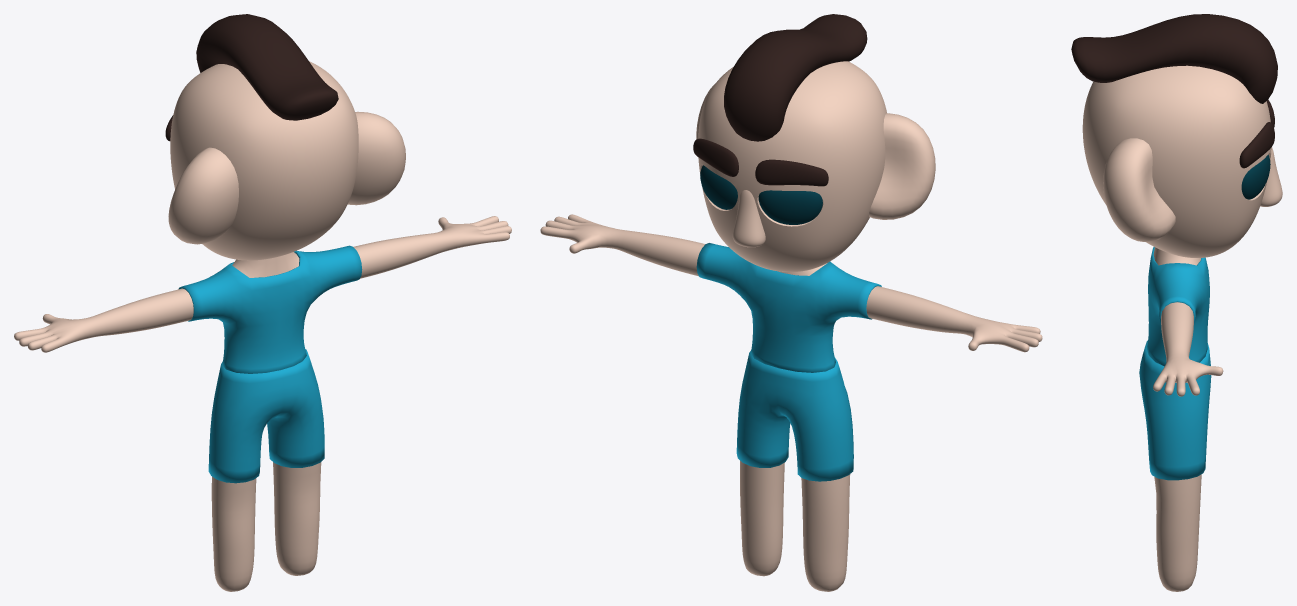
The model's file is BodyMaleAthlete2.fbx.
3 views of the same model, side by side, from view 1: azimuth 30°, elevation 25°; view 2: azimuth 150°, elevation 25°; view 3: azimuth 270°, elevation 25° (orthographic).
Visible parts, largest first — view 1: Head.006, Body.007, Shirt.003, shorts.001, HairExtra.001; view 2: Head.006, Body.007, Shirt.003, shorts.001, HairExtra.001, Brows.005; view 3: Head.006, HairExtra.001, Body.007, shorts.001, Shirt.003, Brows.005.
Part boxes in pixels (bbox=[...]): Head.006: bbox=[168, 61, 405, 260]; Body.007: bbox=[14, 216, 511, 591]; Shirt.003: bbox=[178, 245, 362, 373]; shorts.001: bbox=[208, 349, 324, 483]; HairExtra.001: bbox=[196, 14, 338, 120]; Head.006: bbox=[696, 61, 935, 271]; Body.007: bbox=[540, 214, 1042, 591]; Shirt.003: bbox=[696, 243, 881, 372]; shorts.001: bbox=[736, 350, 853, 481]; HairExtra.001: bbox=[724, 14, 867, 141]; Brows.005: bbox=[693, 138, 828, 186]; Head.006: bbox=[1082, 65, 1282, 257]; HairExtra.001: bbox=[1071, 14, 1277, 103]; Body.007: bbox=[1153, 247, 1223, 591]; shorts.001: bbox=[1139, 340, 1211, 480]; Shirt.003: bbox=[1146, 247, 1209, 366]; Brows.005: bbox=[1239, 99, 1274, 168].
Bounding box in the file's own units: 172 × 185 × 63.79.
